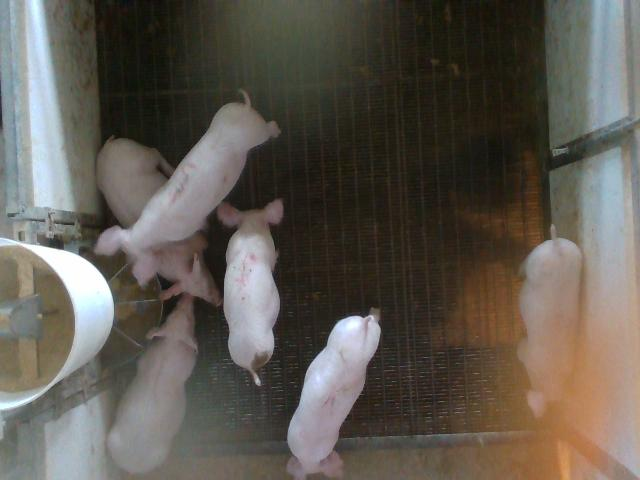pig-3: (96, 92, 280, 254)
pig-5: (218, 199, 282, 386)
